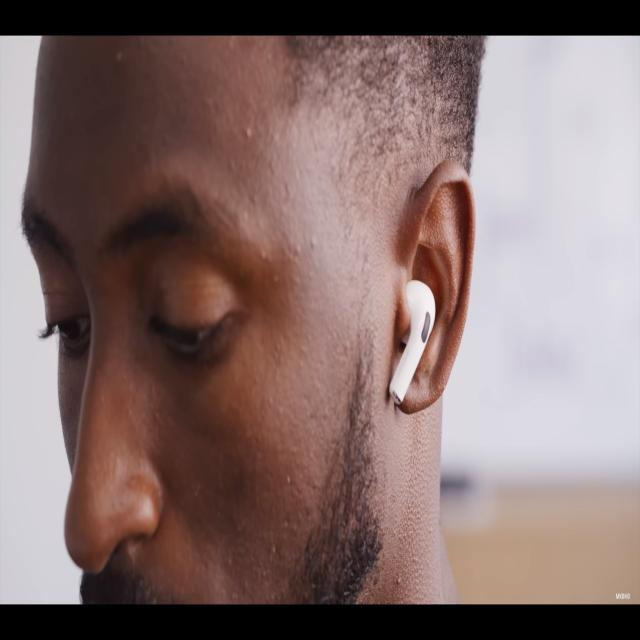airpods: (390, 274, 436, 410)
